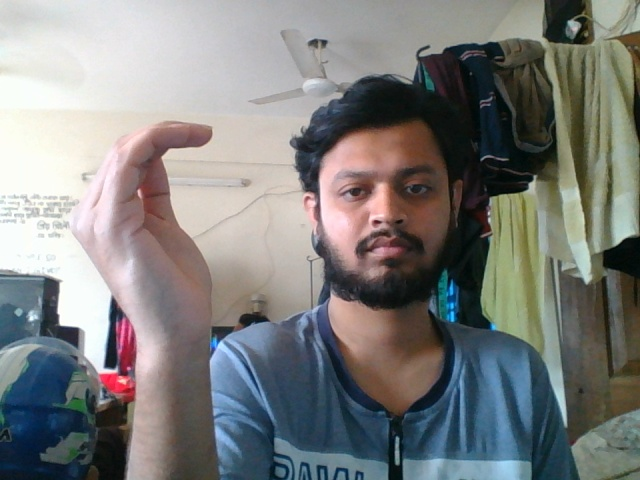ga: (63, 112, 233, 425)
